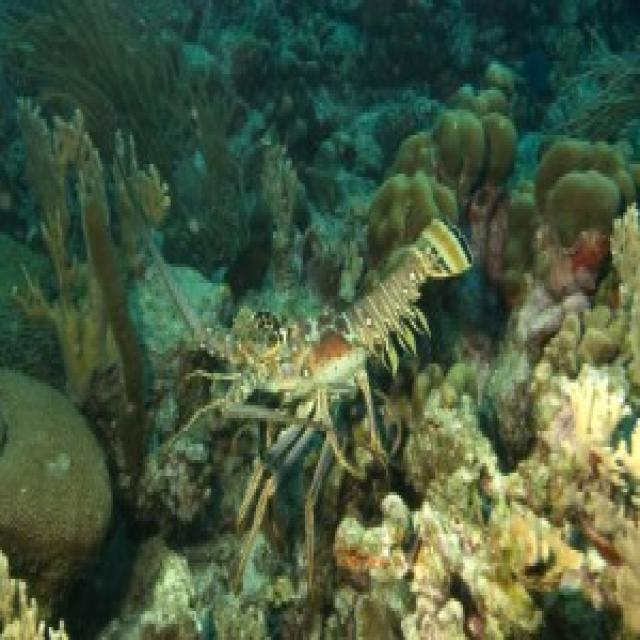lobsters: (182, 179, 518, 617)
